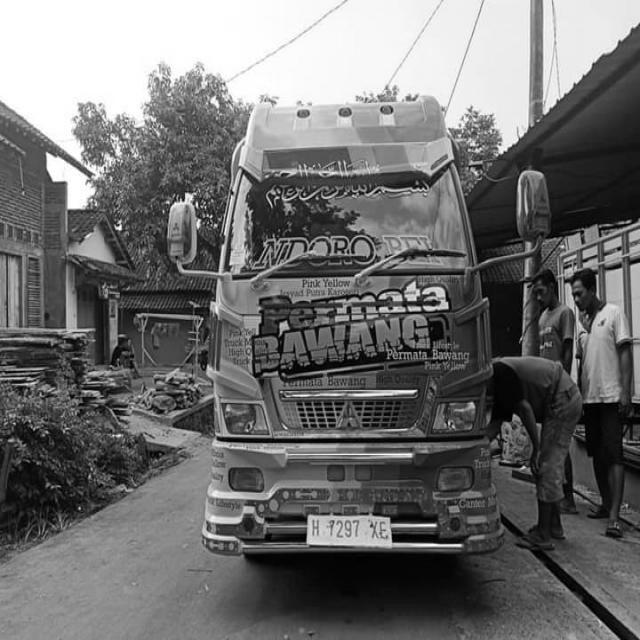truck: (165, 94, 554, 593)
